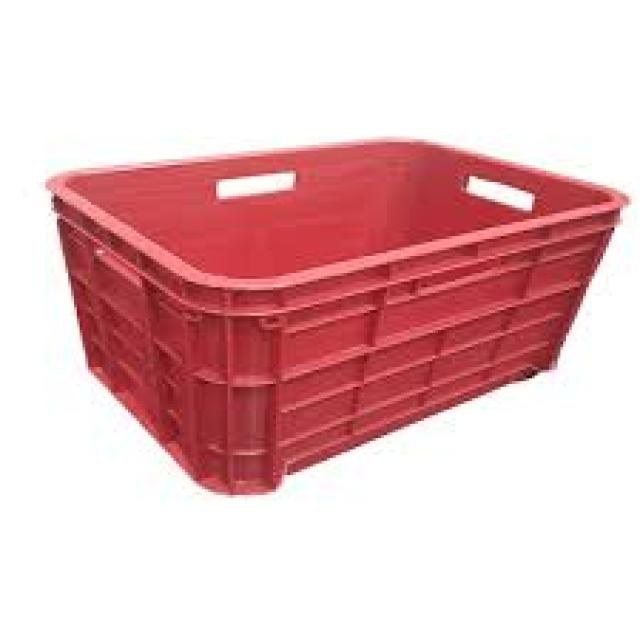basket: (47, 136, 638, 500)
